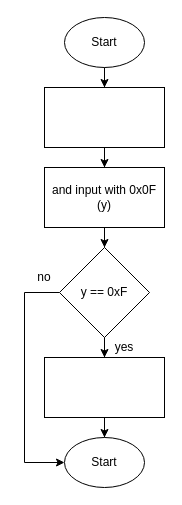
This 182x505 diagram has some shape labels left out. The shapes that lost their labels are listed below. From the top down, each one's centre as x and y in pixels, then its label:
At point (104, 117): "arithmetic right shift 4 (x)".
At point (104, 387): "make y -1".
